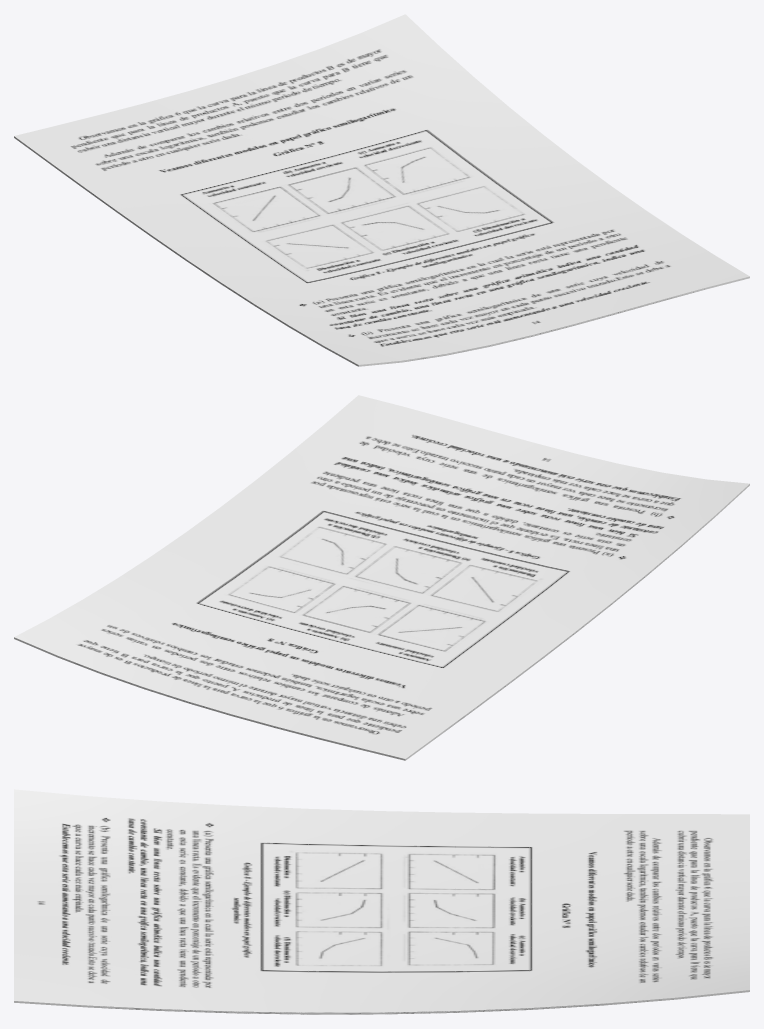
File: Paper 1.FBX
3 views of the same model, one above another, from view 1: azimuth 30°, elevation 25°; view 2: azimuth 150°, elevation 25°; view 3: azimuth 270°, elevation 25° (orthographic). The views are drawn at different scales.
Visible parts, largest first — view 1: Paper 1; view 2: Paper 1; view 3: Paper 1.
Part boxes in pixels (x1,y1,x2,y2): Paper 1: (14, 14, 749, 366); Paper 1: (14, 395, 749, 760); Paper 1: (14, 789, 749, 1014).
Bounding box in the file's own units: 21.15 × 1.45 × 32.23.
Materials: 1 (1 with a texture image).
